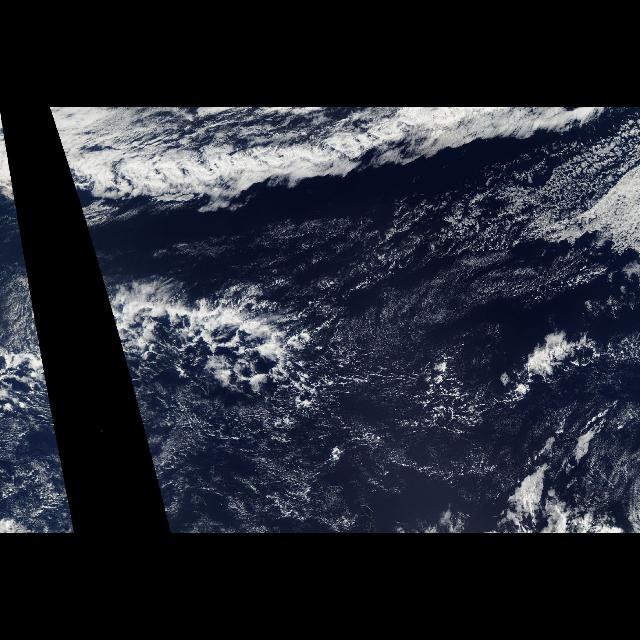Sugar: (164, 212, 562, 526)
